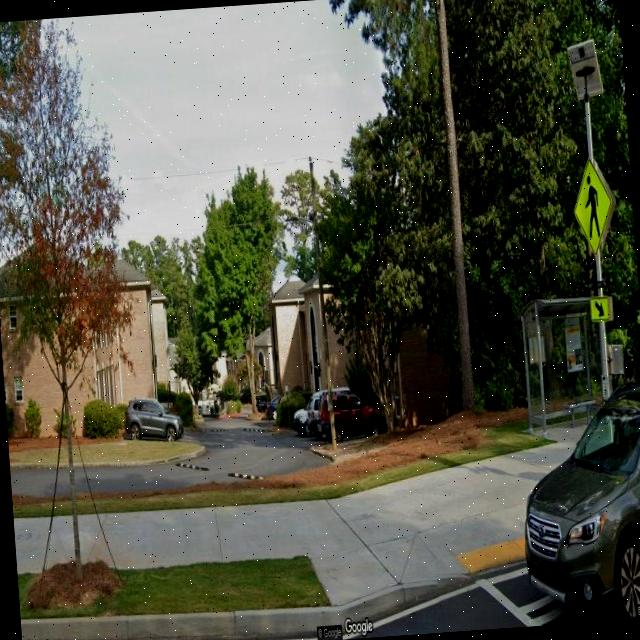seating: (562, 399, 598, 428)
shelter: (518, 294, 613, 437)
